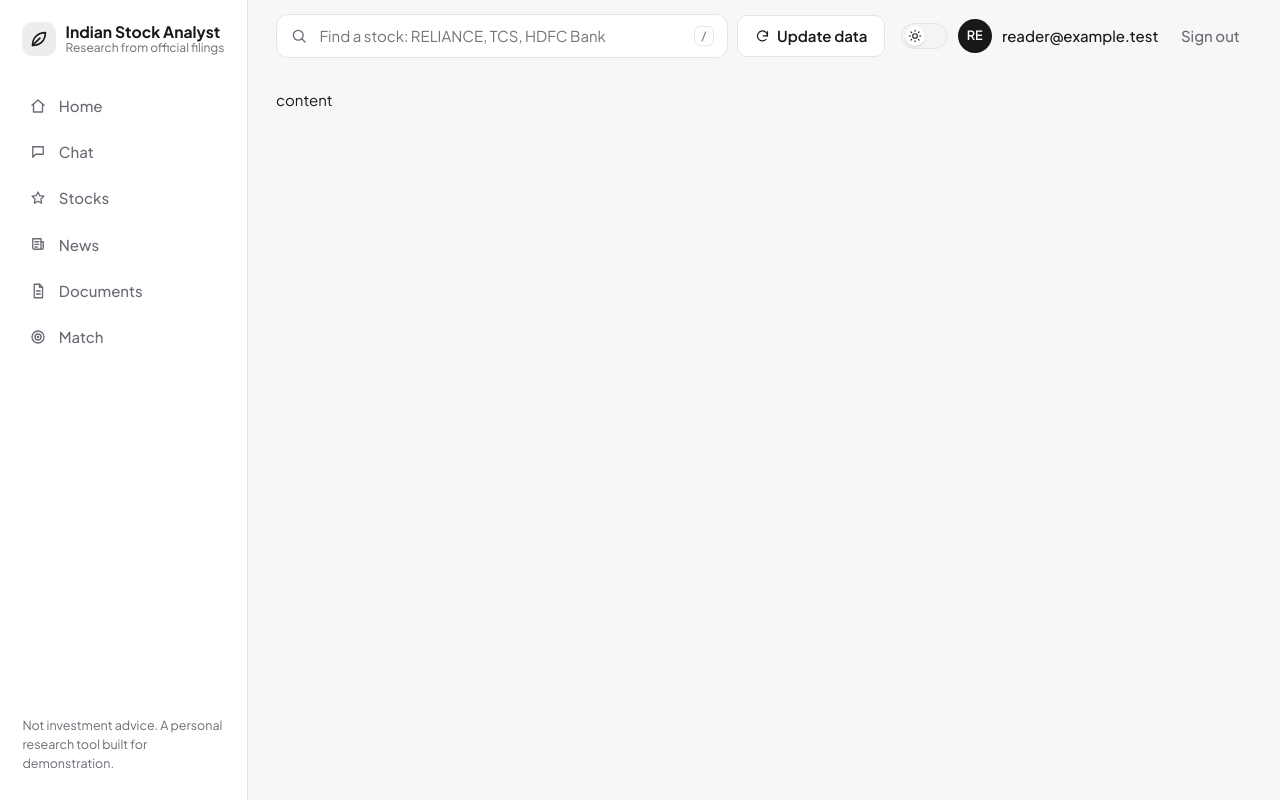
Test: how fresh the data is, on every page › says so when an update could not be started, and shows nothing it could not read
Click the button "Update data". click: click(811, 36)
box: [737,15,885,57]
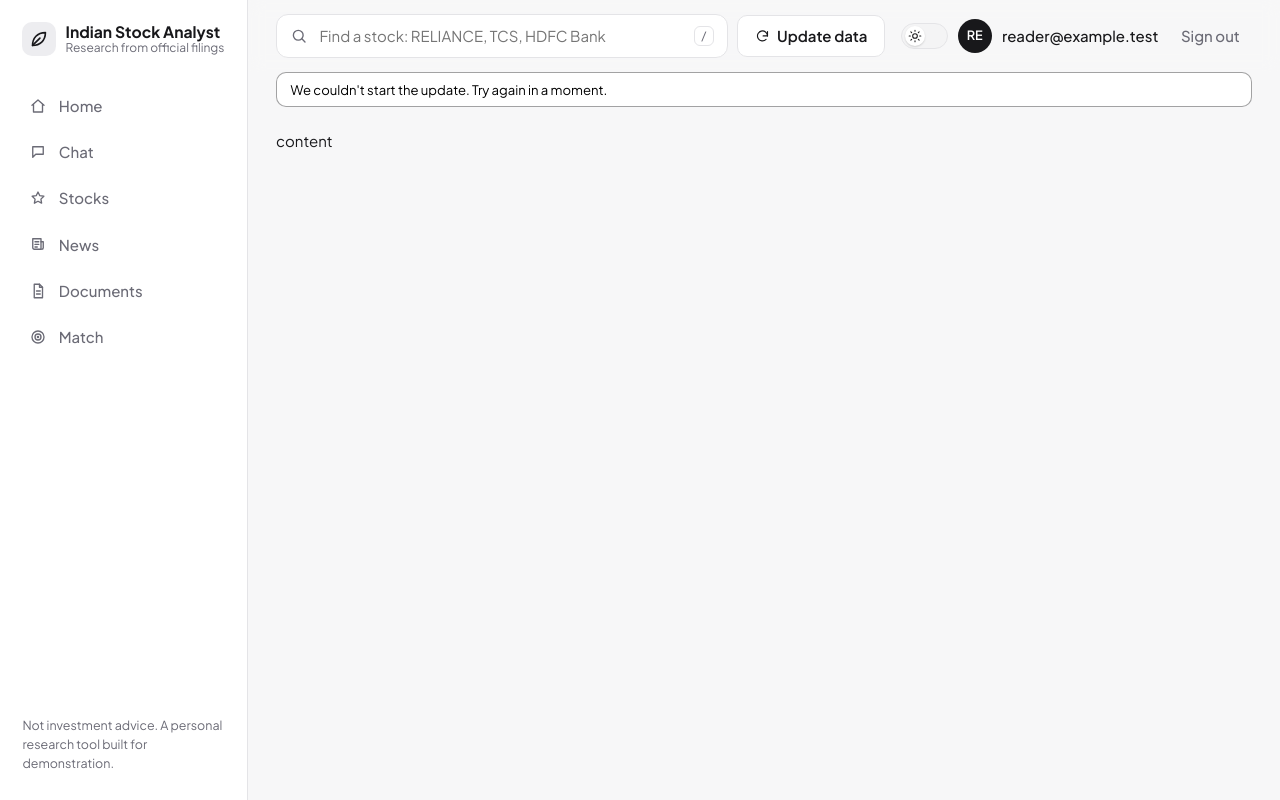
Expected: the text "We couldn't start the update. Try again in a moment." is shown, [276,72,1252,107]
